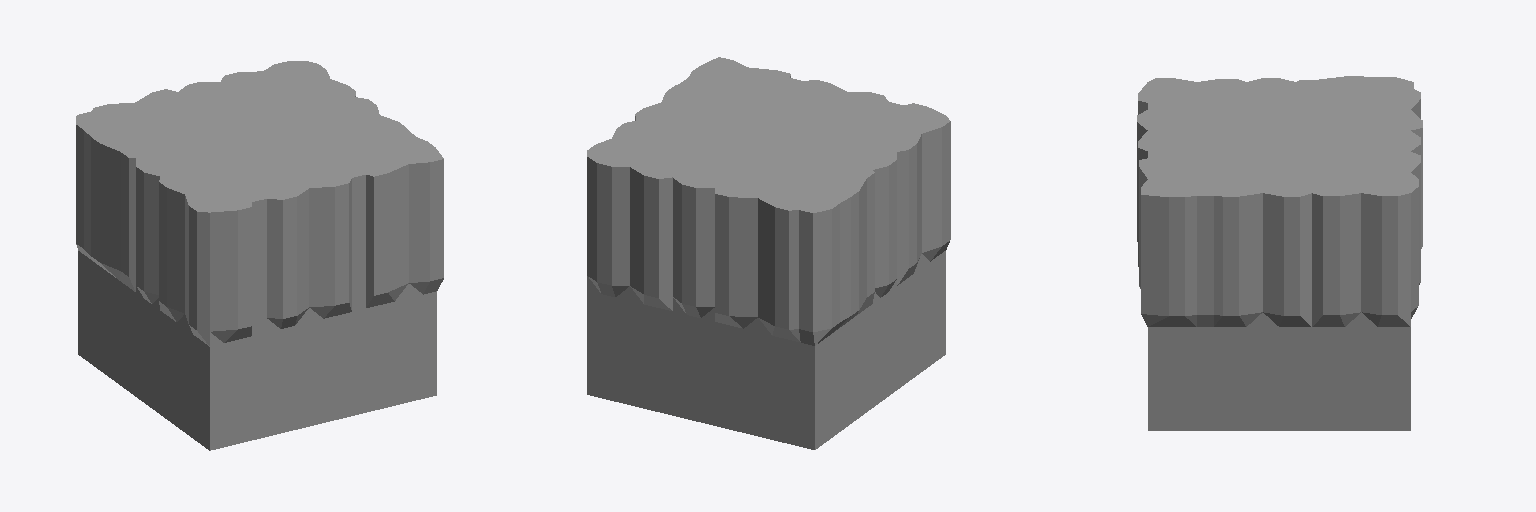
The model's file is fierd.obj.
3 views of the same model, side by side, from view 1: azimuth 30°, elevation 25°; view 2: azimuth 150°, elevation 25°; view 3: azimuth 270°, elevation 25° (orthographic).
Visible parts, largest first — view 1: Cube; view 2: Cube; view 3: Cube.
Boxes of the visible parts, x1,y1,x2,y2 form: Cube: [76, 61, 443, 450]; Cube: [587, 57, 950, 449]; Cube: [1137, 76, 1422, 430].
Bounding box in the file's own units: 2.18 × 2 × 2.17.